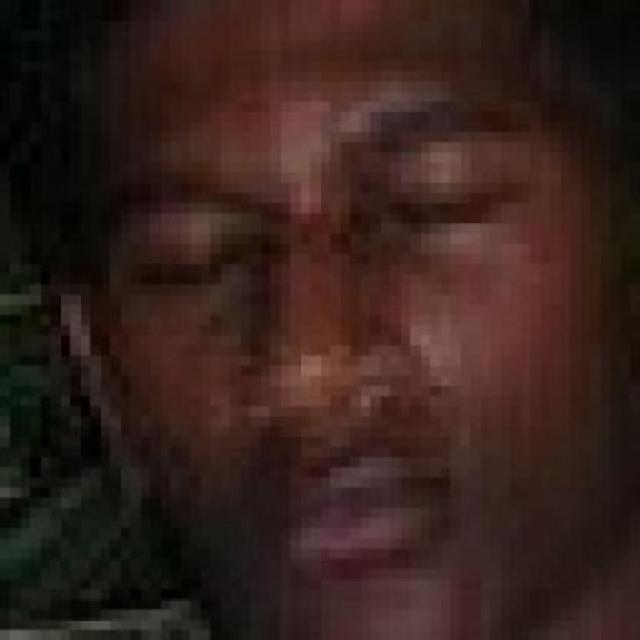drowsy: (126, 229, 246, 296), (388, 178, 510, 239)
